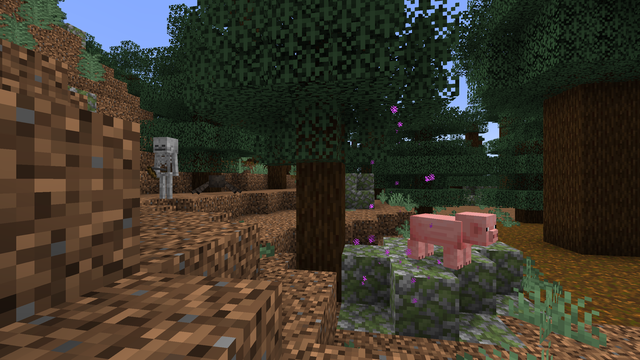araignees: (192, 173, 238, 194)
cochons: (413, 212, 474, 269)
squelettes: (150, 136, 179, 198)
